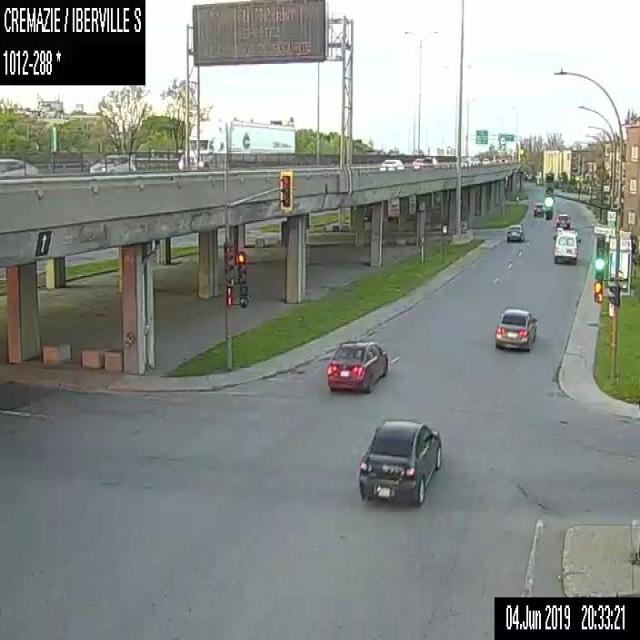vehicle: (357, 415, 442, 505), (180, 120, 296, 169), (326, 337, 387, 395), (493, 305, 538, 352), (0, 155, 43, 184), (88, 150, 136, 174), (552, 225, 580, 264), (506, 222, 524, 242), (378, 157, 404, 169), (555, 212, 571, 228), (422, 155, 439, 169), (532, 201, 544, 217), (412, 154, 424, 168), (461, 157, 471, 166), (481, 157, 490, 164), (472, 157, 479, 165), (500, 157, 506, 163)
